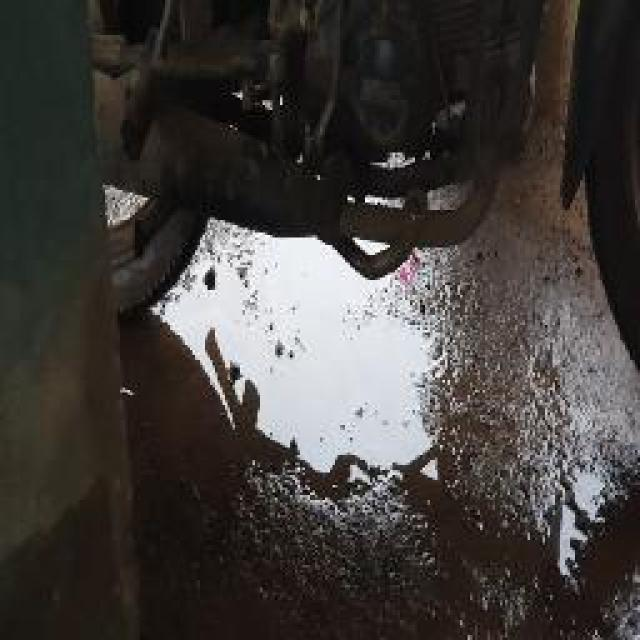stagnation: (154, 221, 441, 516)
